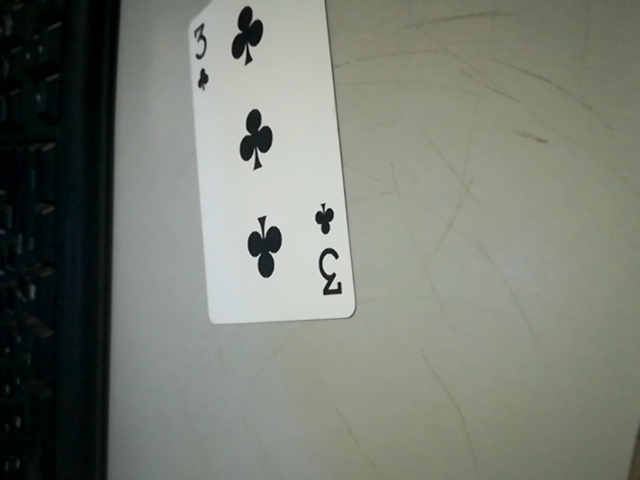mh 3: (307, 194, 353, 314)
